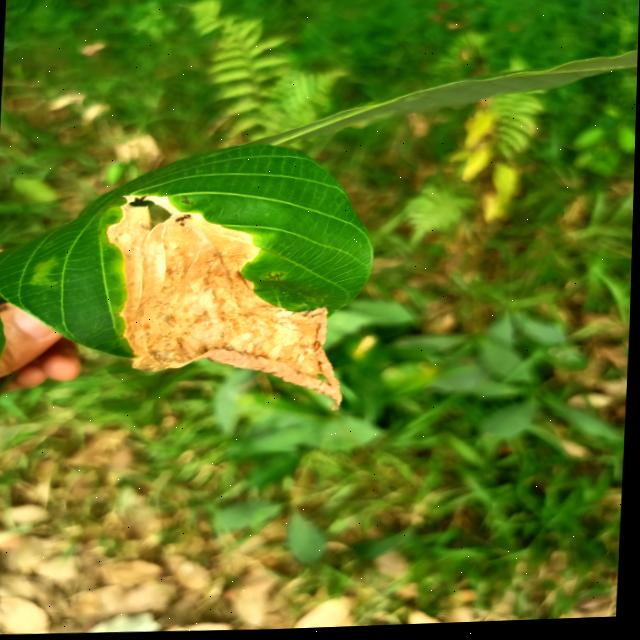Colletotrichum: (185, 216, 191, 220), (177, 220, 181, 223)
Corynespora: (264, 274, 286, 283), (182, 197, 195, 207)
Leaf-Blight: (100, 189, 354, 420)
